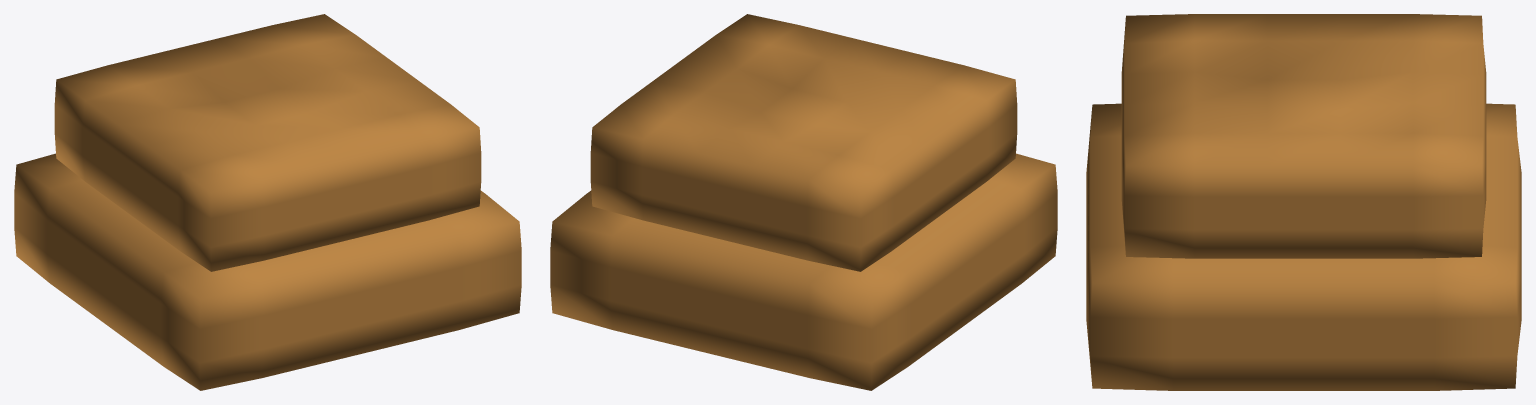
Rendered from alloy_bronze_web.glb.
3 renders of one model, left to right at view 1: azimuth 30°, elevation 25°; view 2: azimuth 150°, elevation 25°; view 3: azimuth 270°, elevation 25°, orthographic. The views are drawn at different scales.
Visible parts, largest first — view 1: alloy_bronze; view 2: alloy_bronze; view 3: alloy_bronze.
Part boxes in pixels (left/top/right/bottom): alloy_bronze: left=14, top=14, right=521, bottom=390; alloy_bronze: left=550, top=14, right=1057, bottom=390; alloy_bronze: left=1086, top=14, right=1521, bottom=390.
Size of the model in its own units: 1 by 0.5515 by 1.
